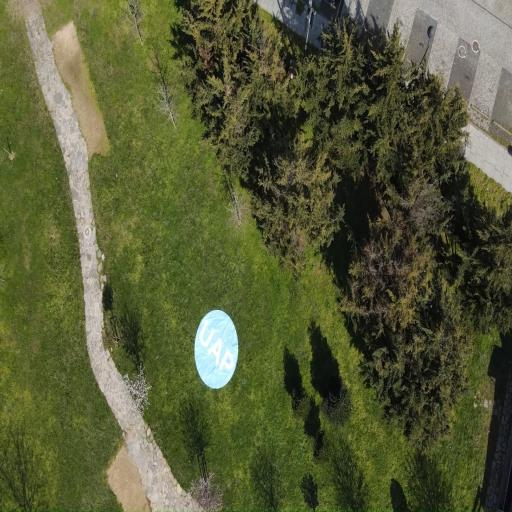car: (194, 310, 238, 388)
